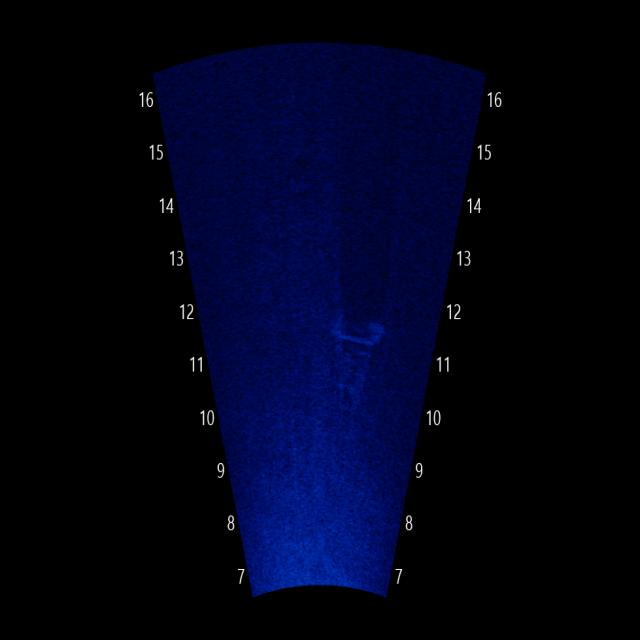triangle: (326, 304, 388, 458)
